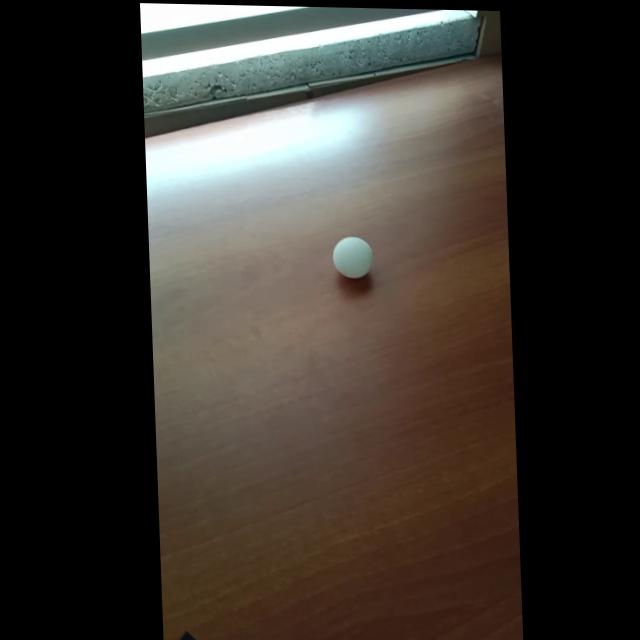white ball: (331, 236, 374, 280)
